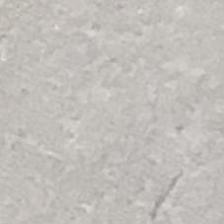Non_Crack: (20, 13, 224, 224)
